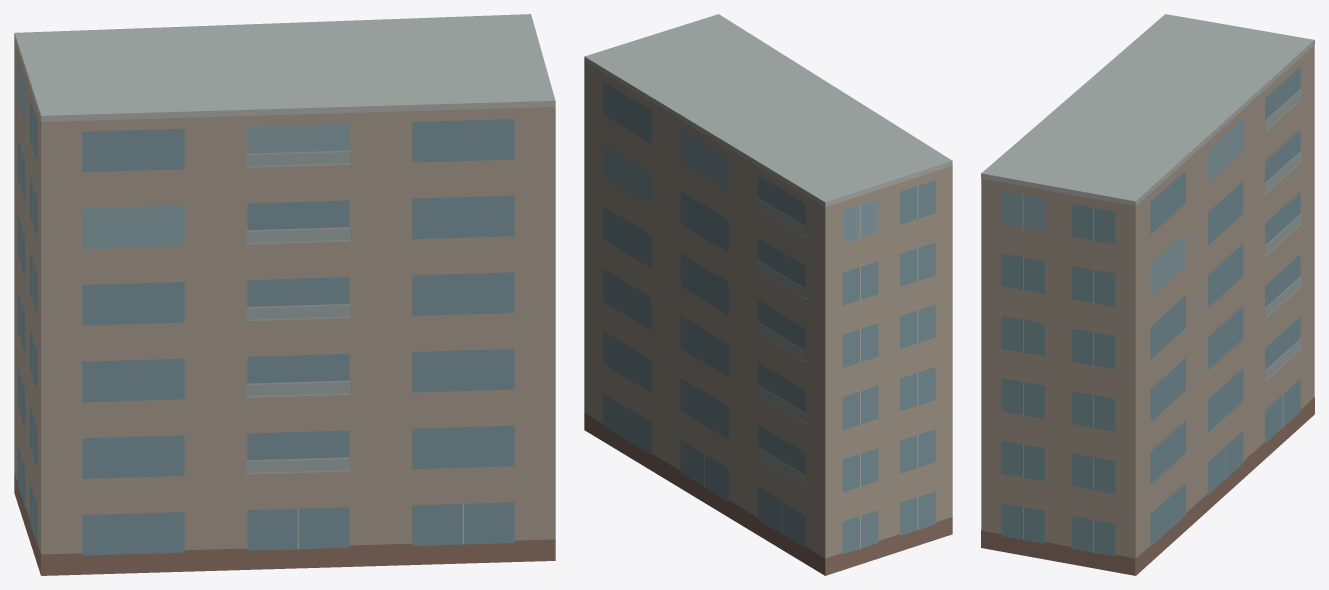
Rendered from survey-upis-32562908.glb.
3 views of the same model, side by side, from view 1: azimuth 30°, elevation 25°; view 2: azimuth 150°, elevation 25°; view 3: azimuth 270°, elevation 25° (orthographic). The views are drawn at different scales.
Parts seen in each view (by area): view 1: survey-upis-32562908.tmp; view 2: survey-upis-32562908.tmp; view 3: survey-upis-32562908.tmp.
Boxes of the visible parts, bbox=[...] form: survey-upis-32562908.tmp: bbox=[14, 14, 555, 575]; survey-upis-32562908.tmp: bbox=[584, 14, 952, 575]; survey-upis-32562908.tmp: bbox=[981, 14, 1314, 575].
Bounding box in the file's own units: 19.65 × 18.3 × 14.78.
